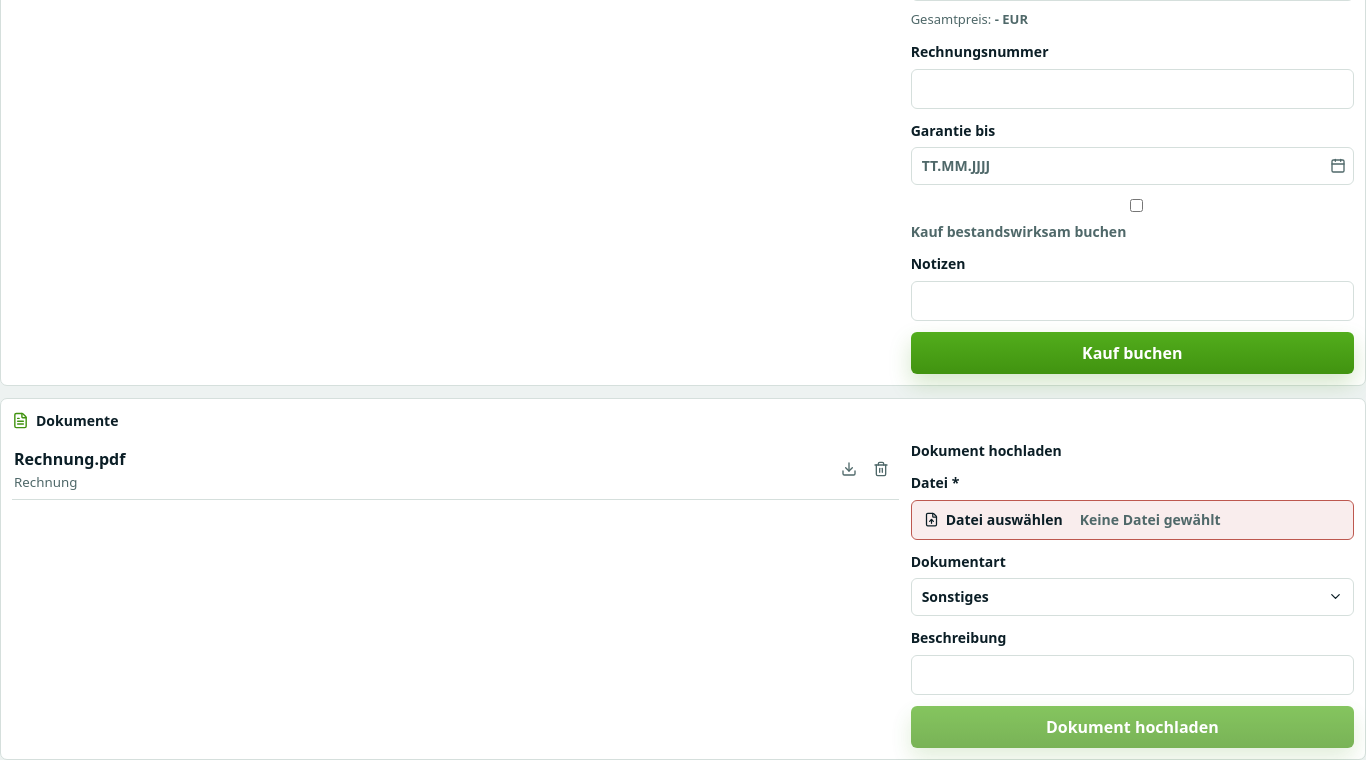
Test case: ArticlePurchaseDocumentsTab › focuses the stable documents heading after a successful document delete refresh
The width and height of the screenshot is (1366, 760).
(page scrolled)
Click the button named "Dokument löschen: Rechnung.pdf" at (881, 470), box [865,454,897,486]
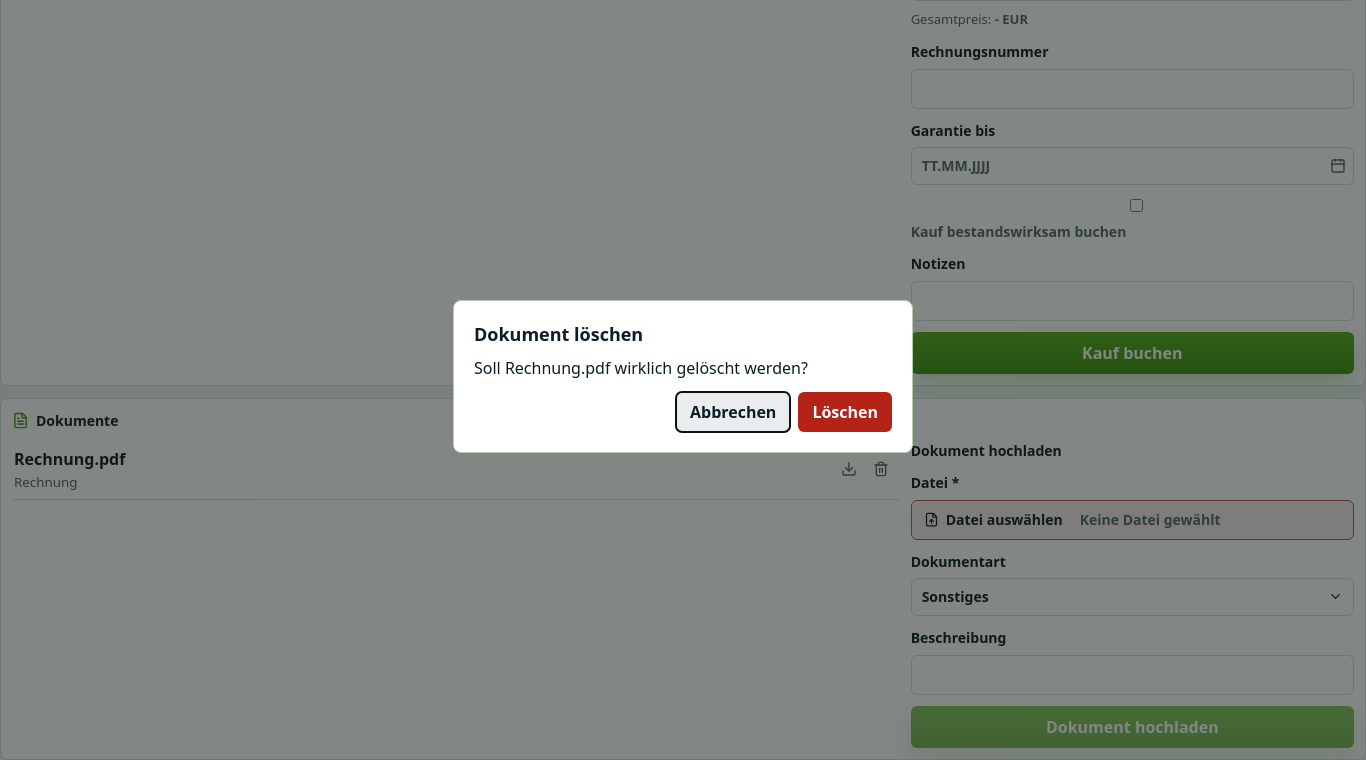
Click the button "Löschen" at (845, 412), box [798,392,892,432]
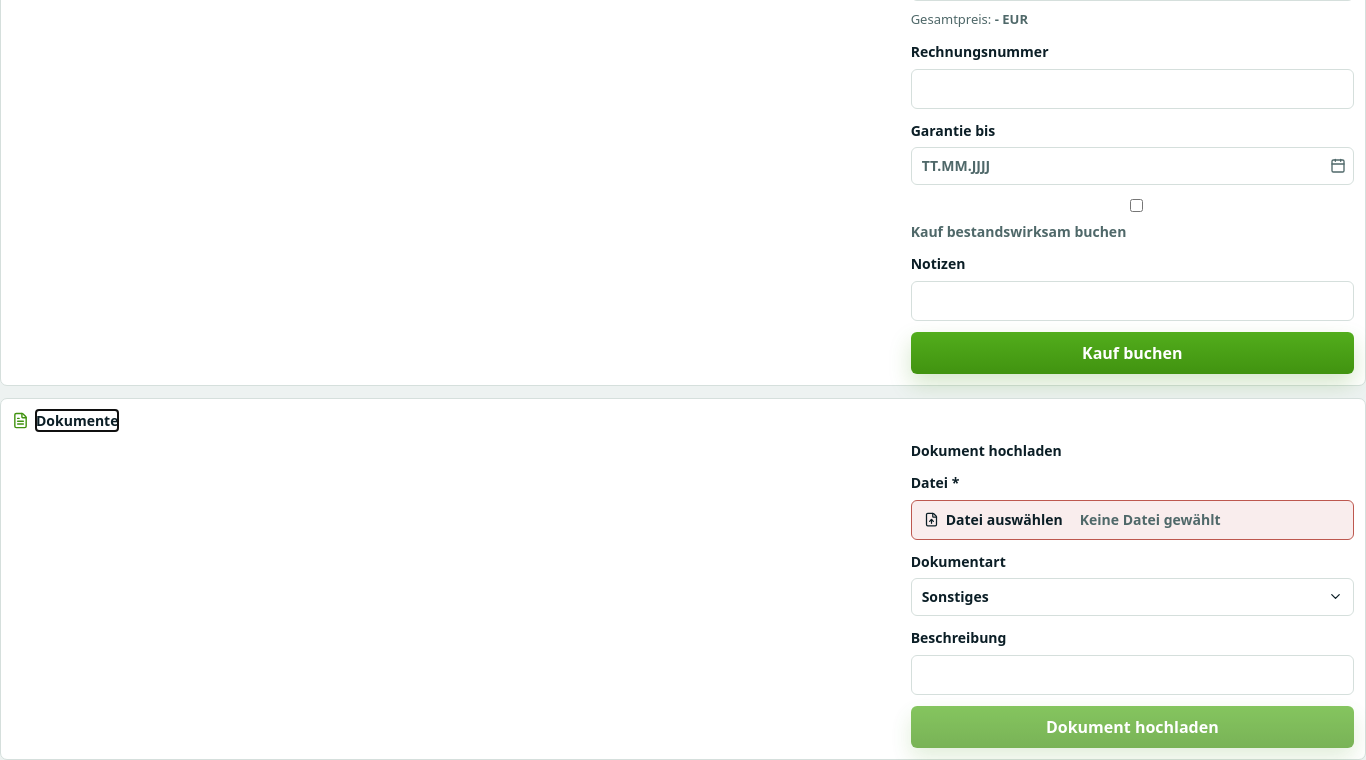
Expected: the text "Rechnung.pdf" is gone
